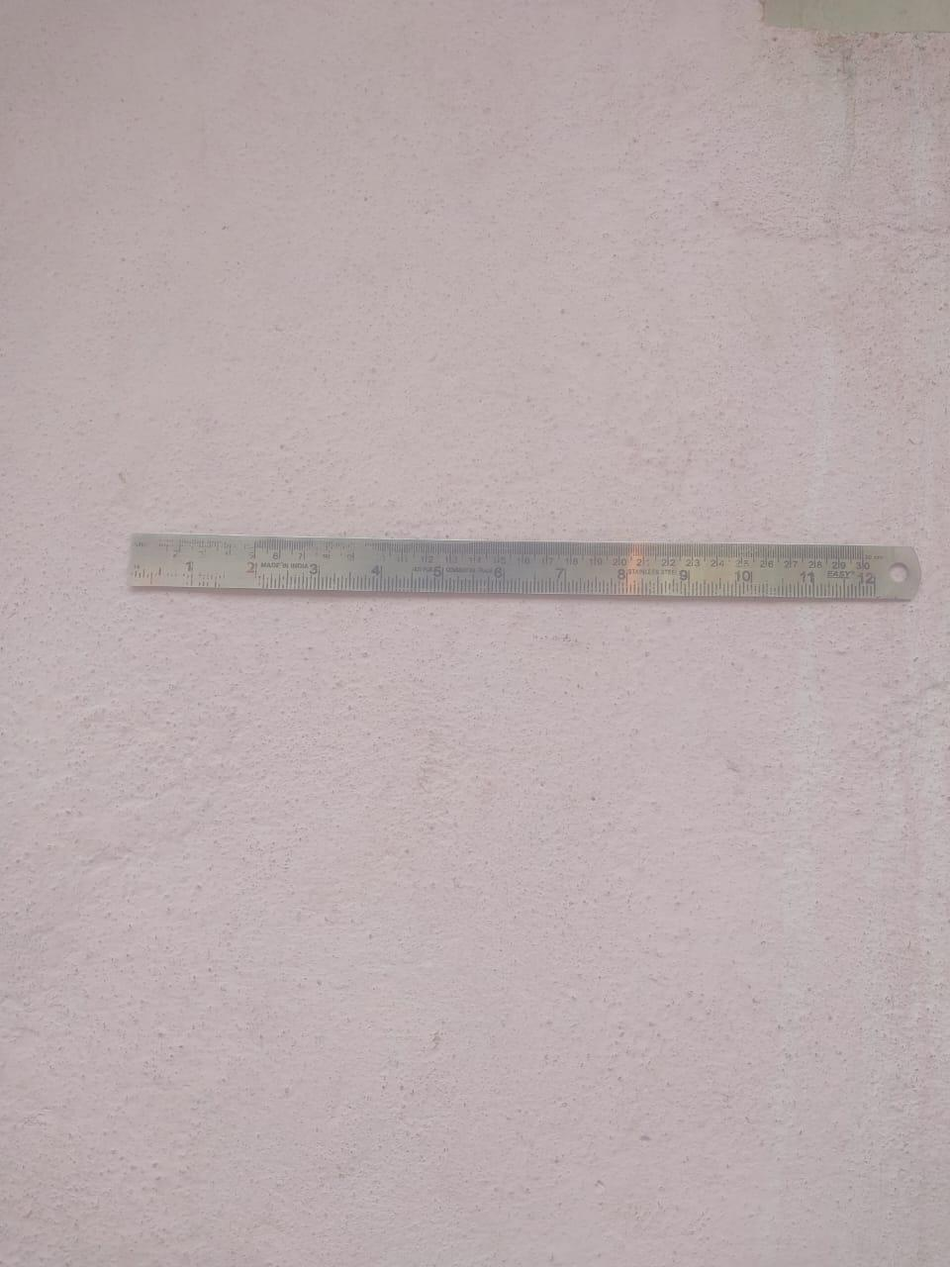scale: (131, 535, 926, 602)
